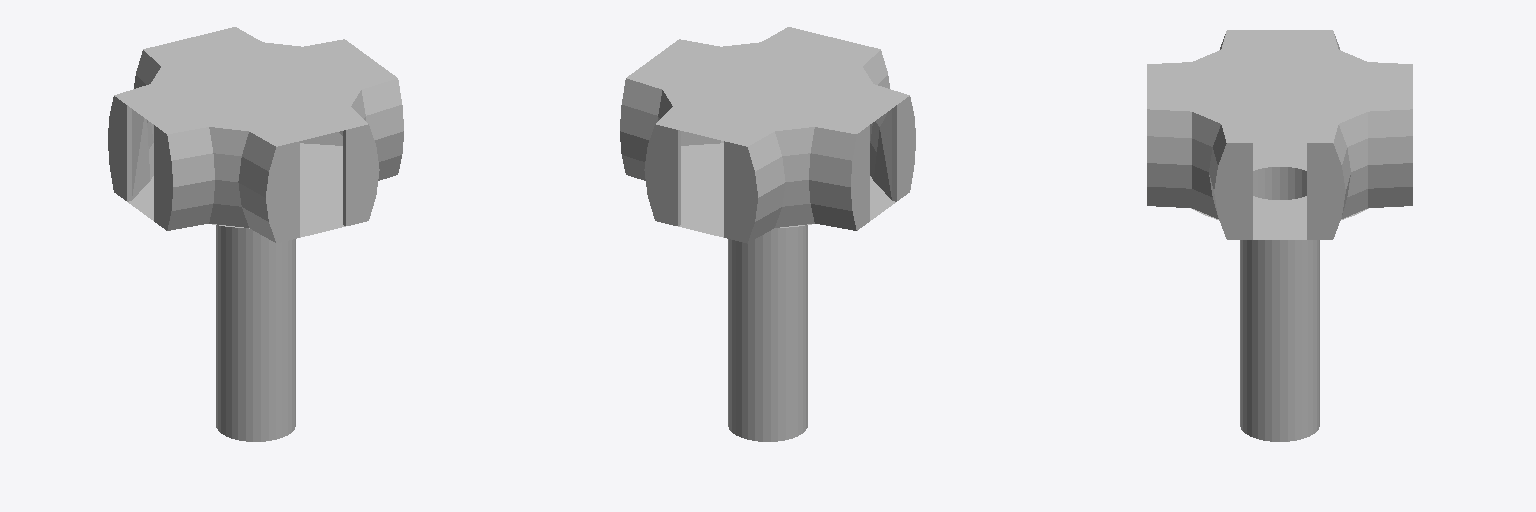
Rendered from X-Corridor.obj.
The picture shows the model from 3 angles: view 1: azimuth 30°, elevation 25°; view 2: azimuth 150°, elevation 25°; view 3: azimuth 270°, elevation 25°; orthographic projection.
Parts seen in each view (by area): view 1: Plane; view 2: Plane; view 3: Plane.
Part boxes in pixels (bbox=[...]): Plane: bbox=[108, 27, 403, 441]; Plane: bbox=[620, 27, 915, 441]; Plane: bbox=[1147, 30, 1412, 441].
Size of the model in its own units: 5 by 7 by 5.